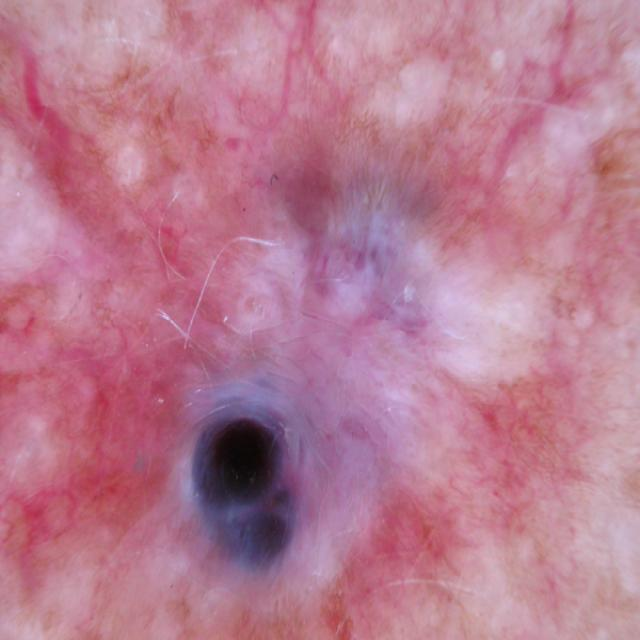Skin-Cancer Seborrheic keratosis: (1, 3, 640, 638)
